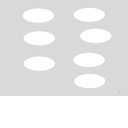round: (71, 71, 109, 90), (78, 26, 115, 45), (21, 5, 56, 25), (72, 5, 108, 24), (22, 54, 58, 73), (72, 50, 107, 68), (21, 30, 57, 47)
